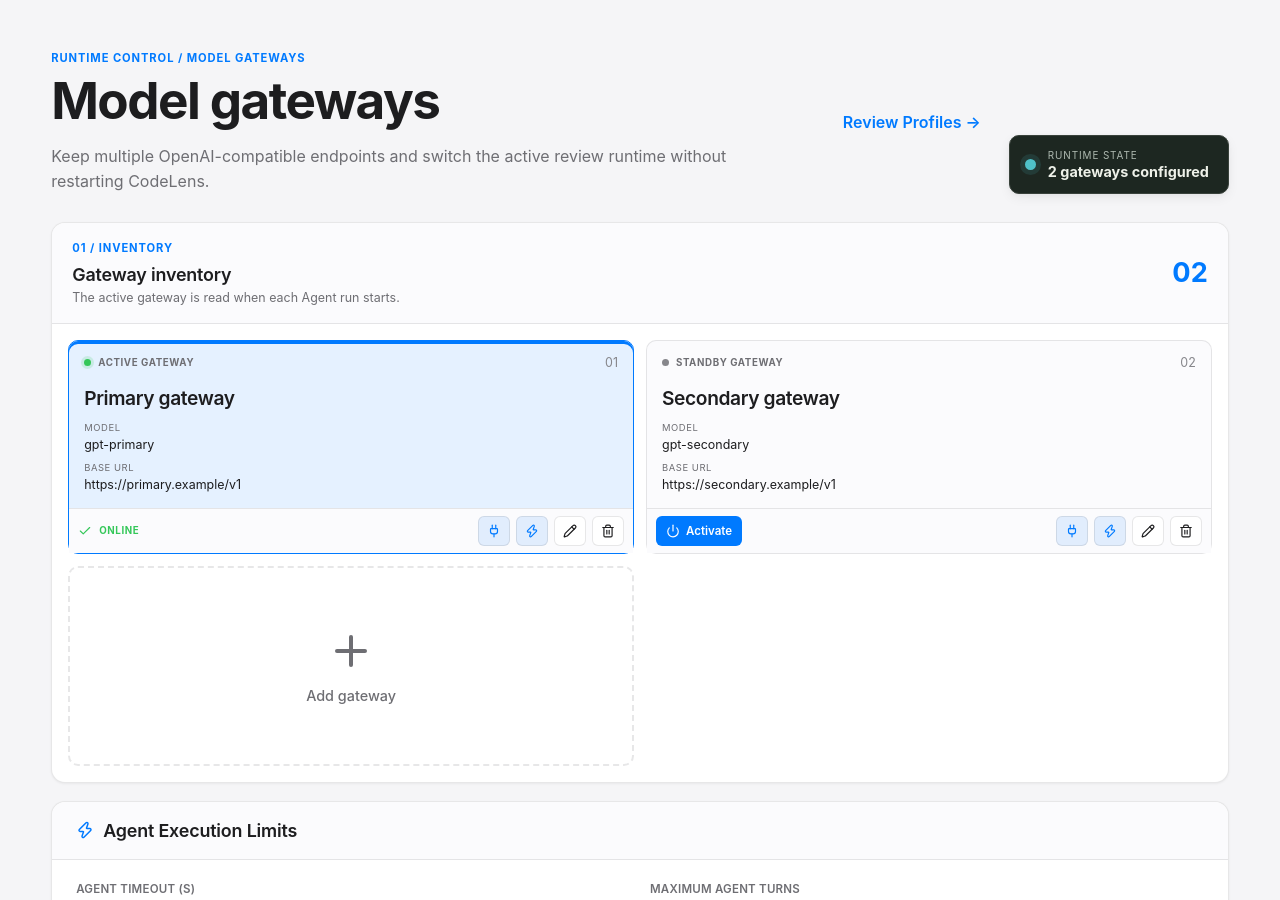
Test case: switches the active gateway without asking for the stored key
Click the button "Activate": coordinates (699, 530) [656,516,742,546]
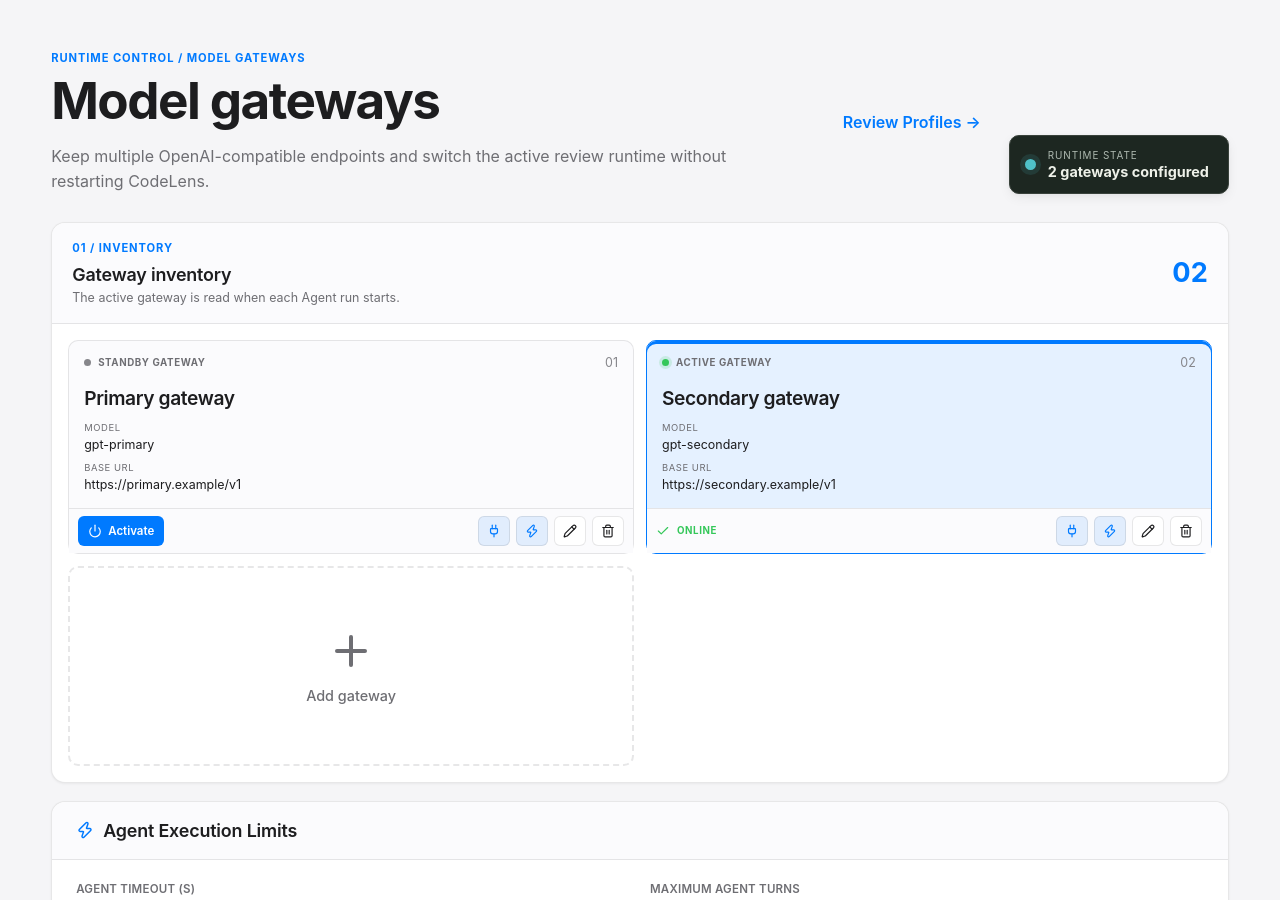
Now the text "Active gateway" is shown, box [662,356,772,368]
